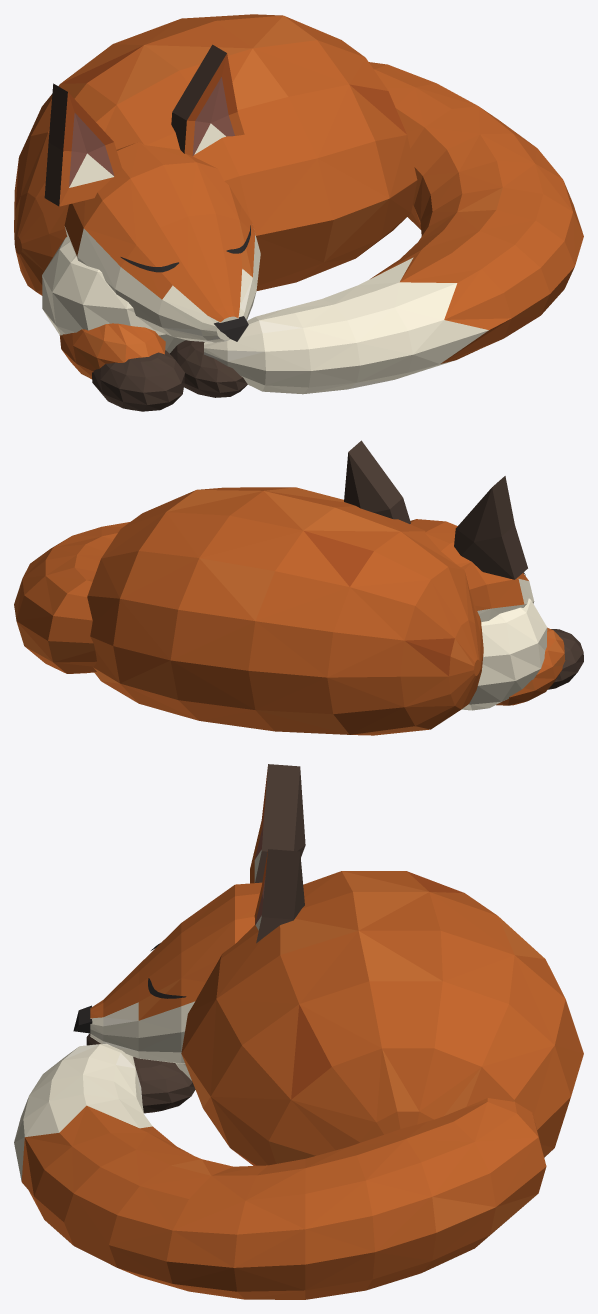
Rendered from SleepingFox.obj.
3 renders of one model, top to bottom at view 1: azimuth 30°, elevation 25°; view 2: azimuth 150°, elevation 25°; view 3: azimuth 270°, elevation 25°, orthographic. The views are drawn at different scales.
Visible parts, largest first — view 1: 01___Body___curled_haunches, 11___Tail___encircling_plume___ivory_tip, 06___Head___tapered_muzzle___ivory_cheeks, 08___Left_ear___dark_back___terracotta_inset, 02___Chest___ivory_bib, 09___Right_ear___dark_back___terracotta_inset, 04___Near_paw___dark_sock, 03___Near_foreleg___tucked_russet, 05___Far_paw___tucked_dark_sock; view 2: 01___Body___curled_haunches, 11___Tail___encircling_plume___ivory_tip, 02___Chest___ivory_bib, 08___Left_ear___dark_back___terracotta_inset, 06___Head___tapered_muzzle___ivory_cheeks, 09___Right_ear___dark_back___terracotta_inset, 03___Near_foreleg___tucked_russet, 04___Near_paw___dark_sock; view 3: 01___Body___curled_haunches, 11___Tail___encircling_plume___ivory_tip, 06___Head___tapered_muzzle___ivory_cheeks, 08___Left_ear___dark_back___terracotta_inset, 09___Right_ear___dark_back___terracotta_inset, 05___Far_paw___tucked_dark_sock.
Part boxes in pixels (left/top/right/bottom): 01___Body___curled_haunches: left=14, top=14, right=417, bottom=295; 11___Tail___encircling_plume___ivory_tip: left=204, top=62, right=583, bottom=394; 06___Head___tapered_muzzle___ivory_cheeks: left=64, top=142, right=260, bottom=342; 08___Left_ear___dark_back___terracotta_inset: left=44, top=83, right=122, bottom=206; 02___Chest___ivory_bib: left=42, top=237, right=185, bottom=353; 09___Right_ear___dark_back___terracotta_inset: left=171, top=44, right=244, bottom=156; 04___Near_paw___dark_sock: left=92, top=350, right=184, bottom=411; 03___Near_foreleg___tucked_russet: left=59, top=323, right=165, bottom=379; 05___Far_paw___tucked_dark_sock: left=169, top=340, right=247, bottom=397; 01___Body___curled_haunches: left=87, top=487, right=483, bottom=735; 11___Tail___encircling_plume___ivory_tip: left=14, top=522, right=129, bottom=673; 02___Chest___ivory_bib: left=462, top=598, right=547, bottom=710; 08___Left_ear___dark_back___terracotta_inset: left=454, top=476, right=527, bottom=579; 06___Head___tapered_muzzle___ivory_cheeks: left=410, top=519, right=534, bottom=621; 09___Right_ear___dark_back___terracotta_inset: left=344, top=440, right=410, bottom=523; 03___Near_foreleg___tucked_russet: left=496, top=627, right=565, bottom=705; 04___Near_paw___dark_sock: left=548, top=629, right=583, bottom=689; 01___Body___curled_haunches: left=181, top=871, right=583, bottom=1165; 11___Tail___encircling_plume___ivory_tip: left=14, top=1043, right=546, bottom=1299; 06___Head___tapered_muzzle___ivory_cheeks: left=90, top=882, right=261, bottom=1063; 08___Left_ear___dark_back___terracotta_inset: left=250, top=764, right=305, bottom=883; 09___Right_ear___dark_back___terracotta_inset: left=254, top=849, right=304, bottom=943; 05___Far_paw___tucked_dark_sock: left=133, top=1057, right=195, bottom=1113.
Size of the model in its own units: 3.08 by 1.56 by 2.66.
